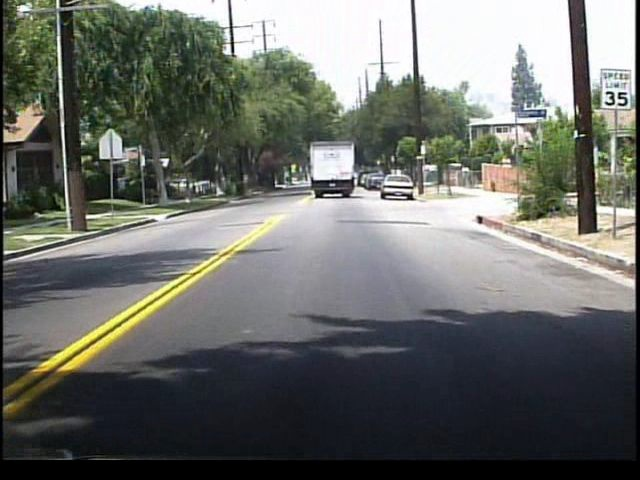person: (459, 164, 470, 190)
